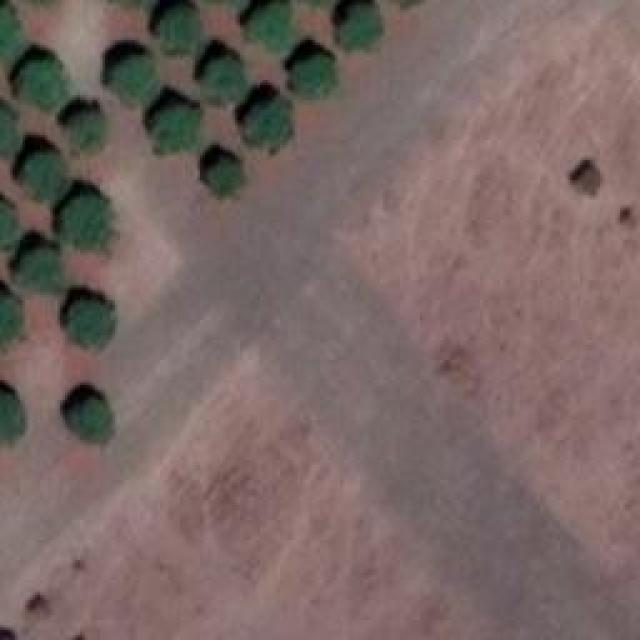Tree: (65, 200, 115, 255), (243, 92, 288, 150), (150, 103, 198, 156), (63, 393, 113, 443), (68, 298, 118, 348), (15, 55, 65, 105), (288, 48, 338, 98), (338, 0, 383, 48), (23, 145, 66, 195), (158, 5, 201, 55), (205, 53, 248, 103), (25, 245, 68, 293), (115, 53, 155, 98), (247, 0, 287, 42), (65, 108, 105, 148), (205, 155, 240, 198), (0, 95, 20, 158), (0, 390, 22, 447), (0, 200, 18, 253), (0, 290, 18, 343), (0, 3, 18, 53)
